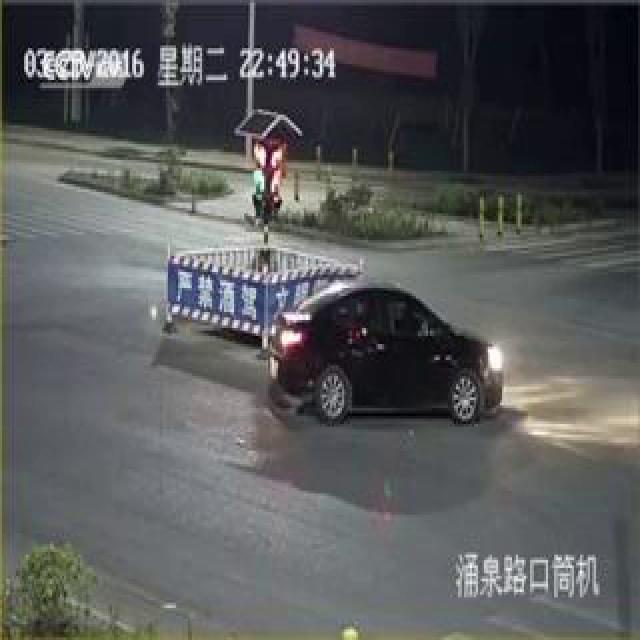vandalism: (249, 0, 538, 640)
